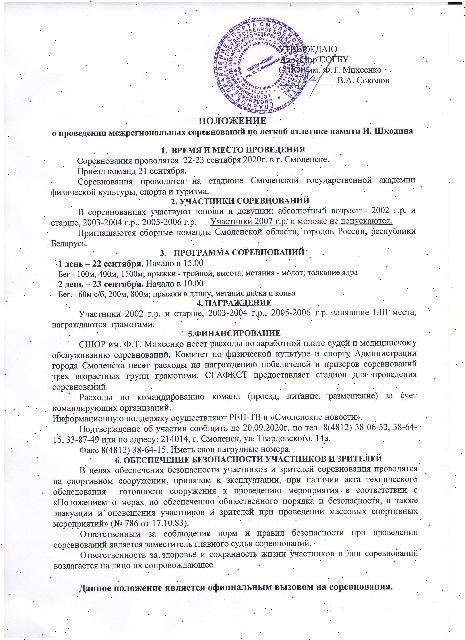stamp: (213, 19, 309, 116)
